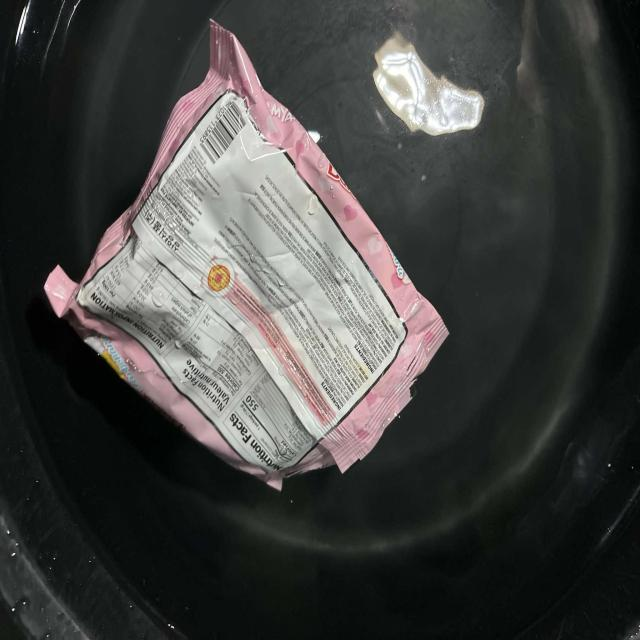Plastic Wrapper: (45, 20, 448, 489)
